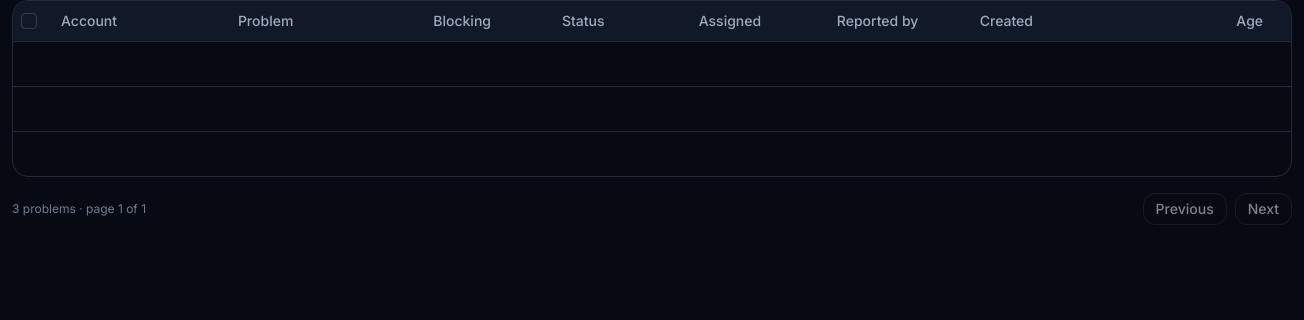
Scenario: selection › changing 5. a filter clears the selection
This screenshot has width=1304, height=320.
Click the checkbox named "Select all problems on this page".
click(29, 21)  # box x1=21 y1=13 x2=37 y2=29
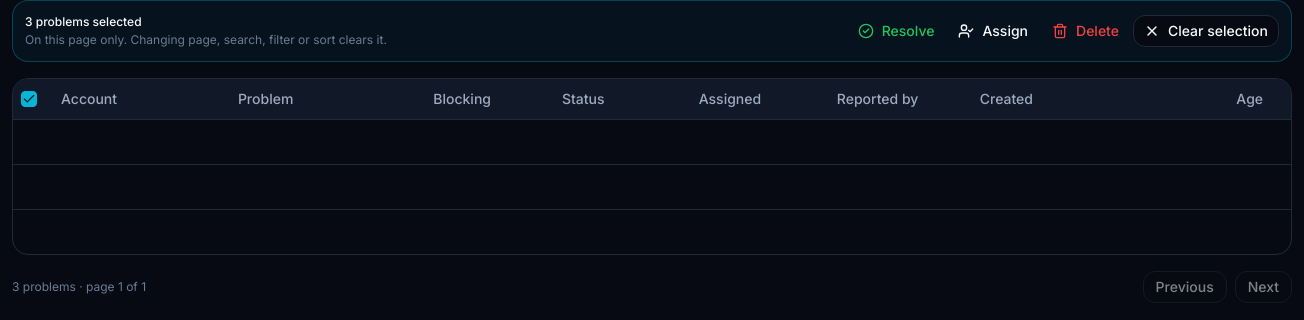
Expected: the text "3 problems selected" is shown, x1=25 y1=14 x2=142 y2=29
